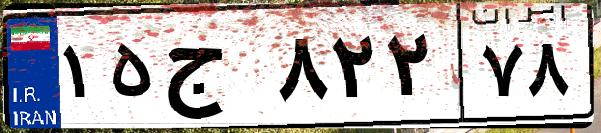1: (57, 26, 110, 100)
2: (385, 28, 445, 110), (330, 28, 385, 110)
5: (110, 28, 158, 98)
7: (475, 38, 525, 113)
8: (270, 28, 330, 110), (525, 38, 570, 115)
ج: (158, 20, 270, 120)
